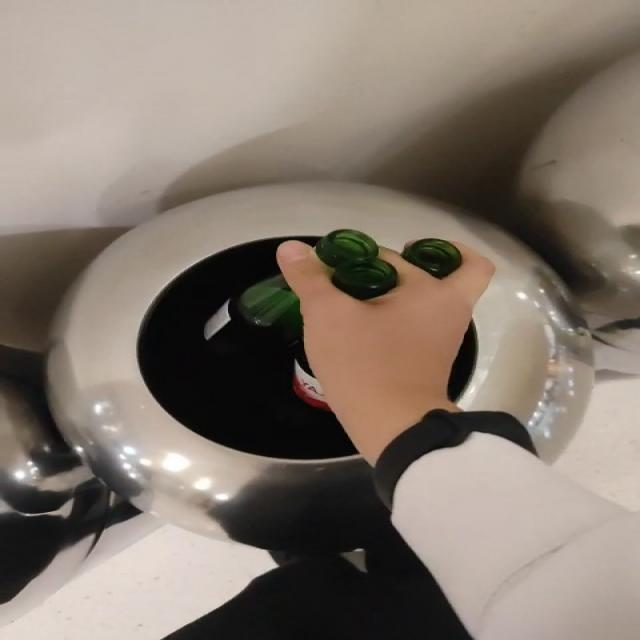bin: (45, 182, 593, 552), (517, 54, 639, 347)
glass: (315, 229, 397, 300), (235, 275, 301, 340), (401, 238, 463, 279), (292, 358, 329, 410), (211, 303, 231, 327)
